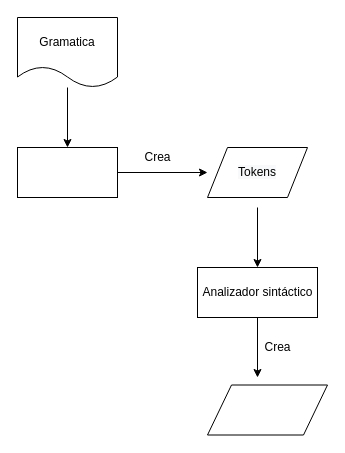
This 345x453 diagram has some shape labels left out. Here are the shapes that lost their labels. From the top down, the box of each, then its label:
(16, 146, 118, 198): Analizador léxico
(206, 384, 328, 435): Árbol sintáctico
